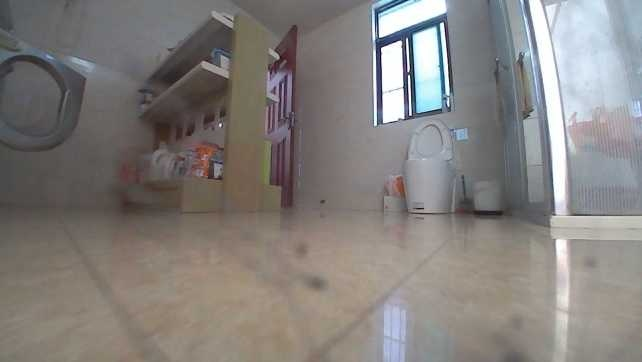door_anno: (262, 24, 299, 210)
toilet: (395, 117, 457, 215)
